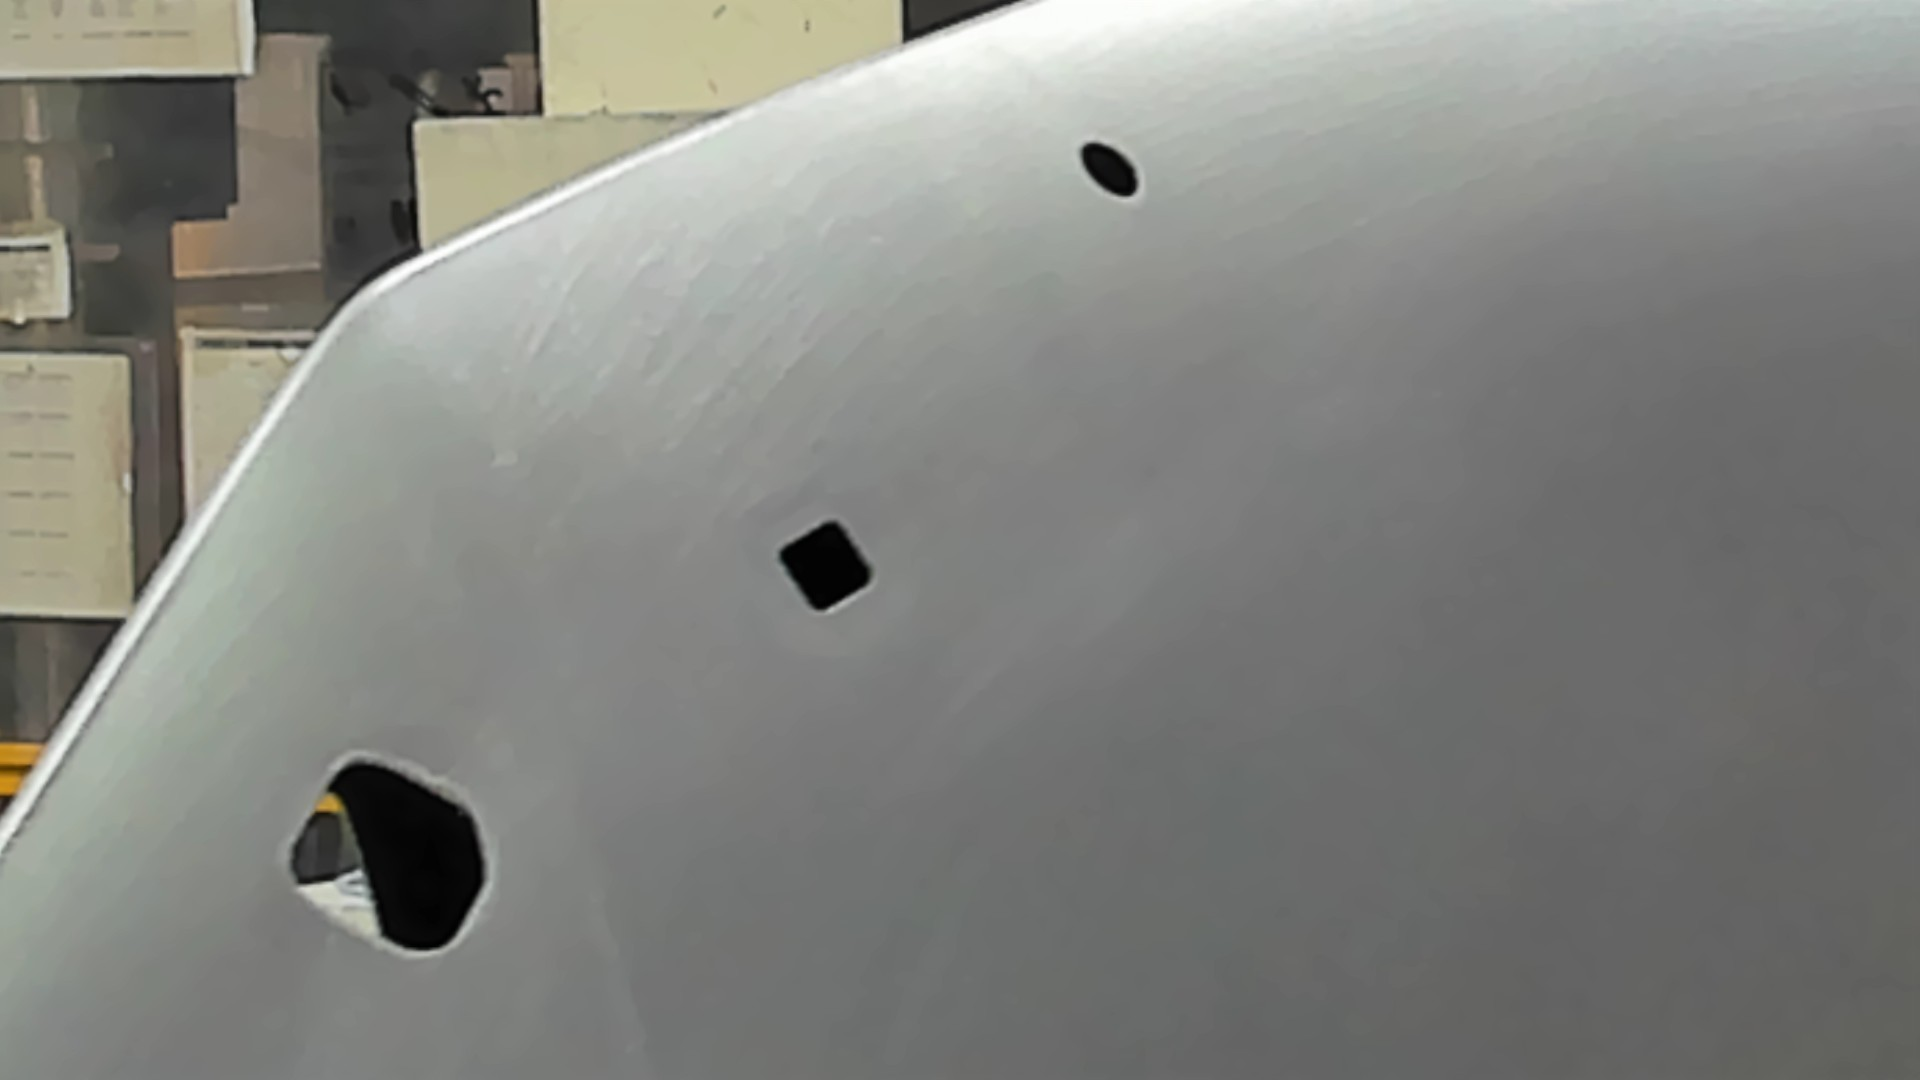chico: (1071, 135, 1145, 200)
grande: (274, 752, 500, 963)
mediano: (767, 514, 878, 622)
